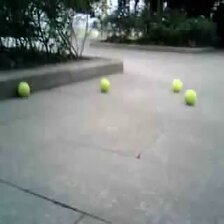tennis: (99, 79, 111, 93), (185, 89, 197, 103), (18, 82, 30, 95), (172, 79, 182, 91)
